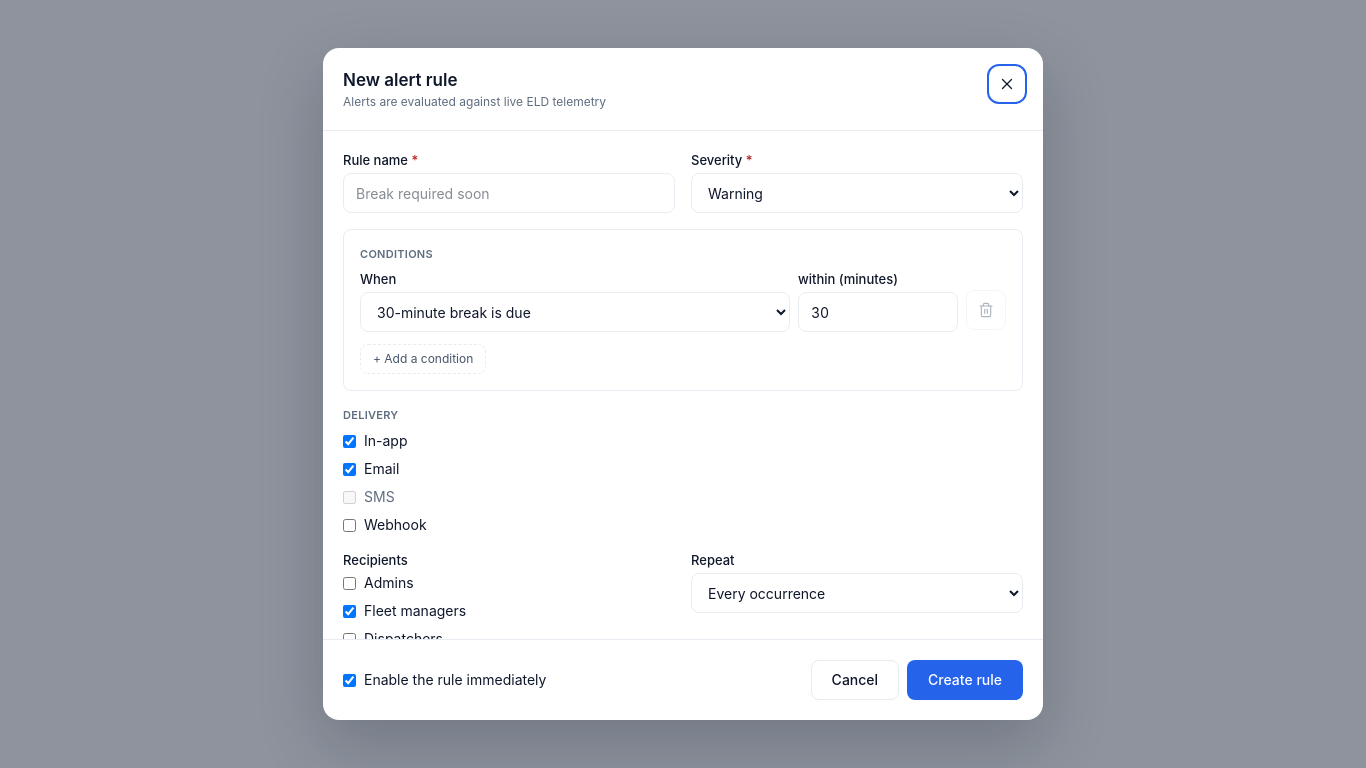
Test: NewAlertRuleModal — payload honesty › refuses a rule with no delivery channel and sends nothing
The image size is (1366, 768).
Type "Silent rule" into the field with placeholder "Break required soon" at (509, 193), box [343, 173, 675, 213]
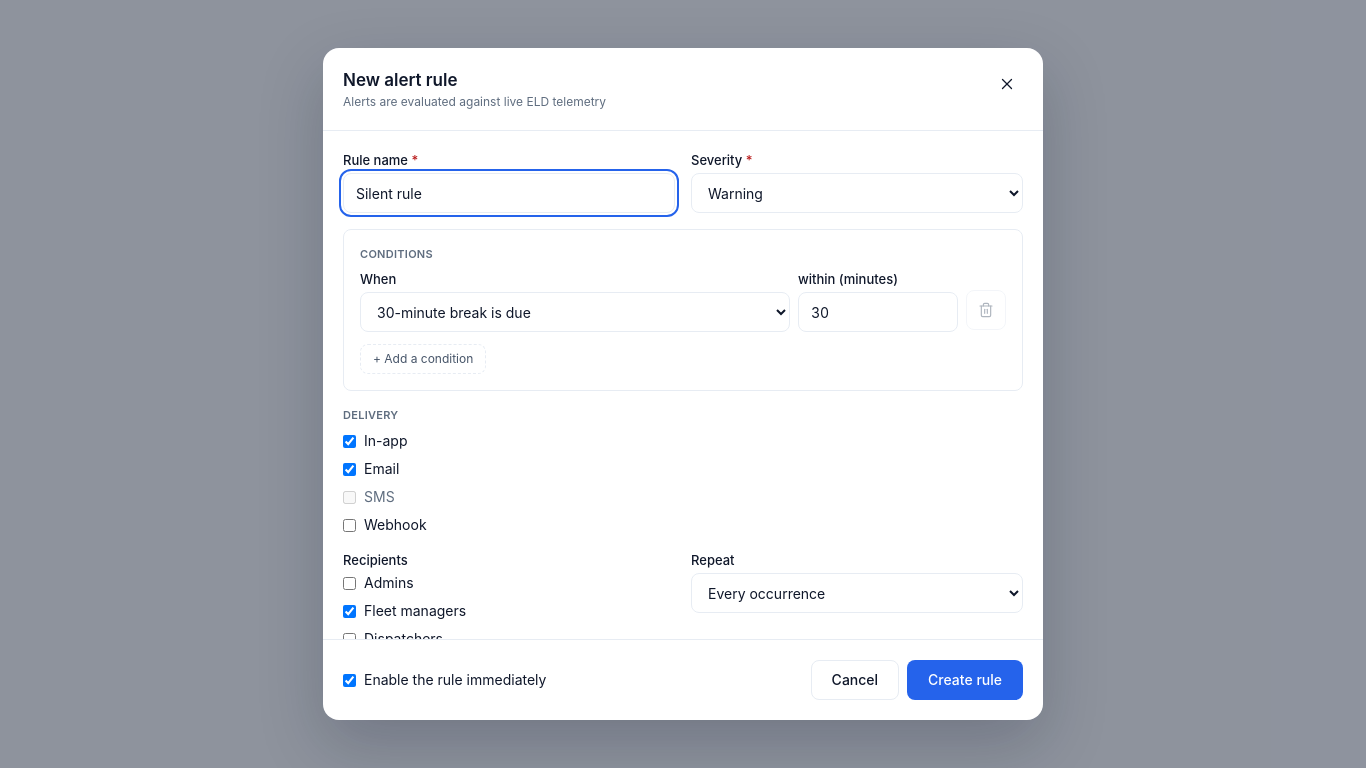
Click the checkbox labelled "In-app" at (350, 441), box [343, 434, 356, 448]
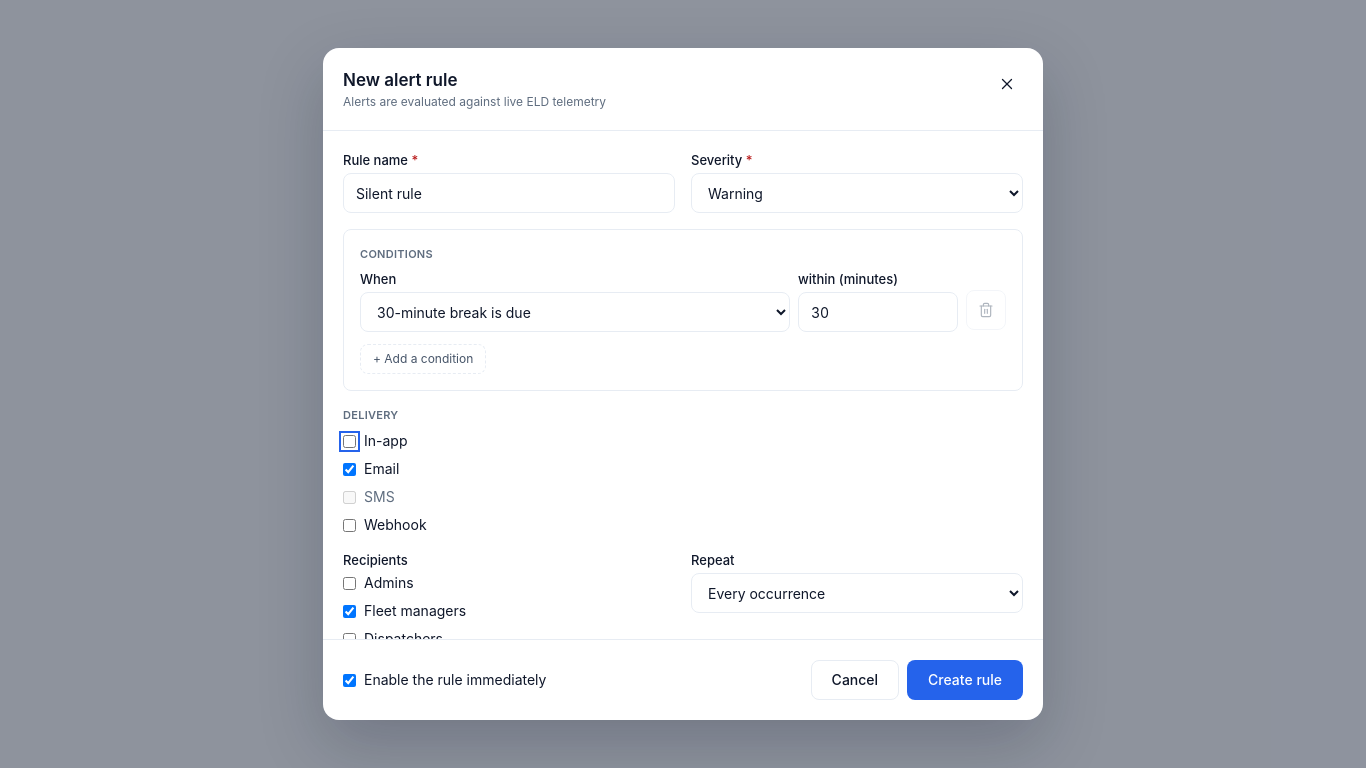
Click the checkbox labelled "Email" at (350, 469), box [343, 462, 356, 476]
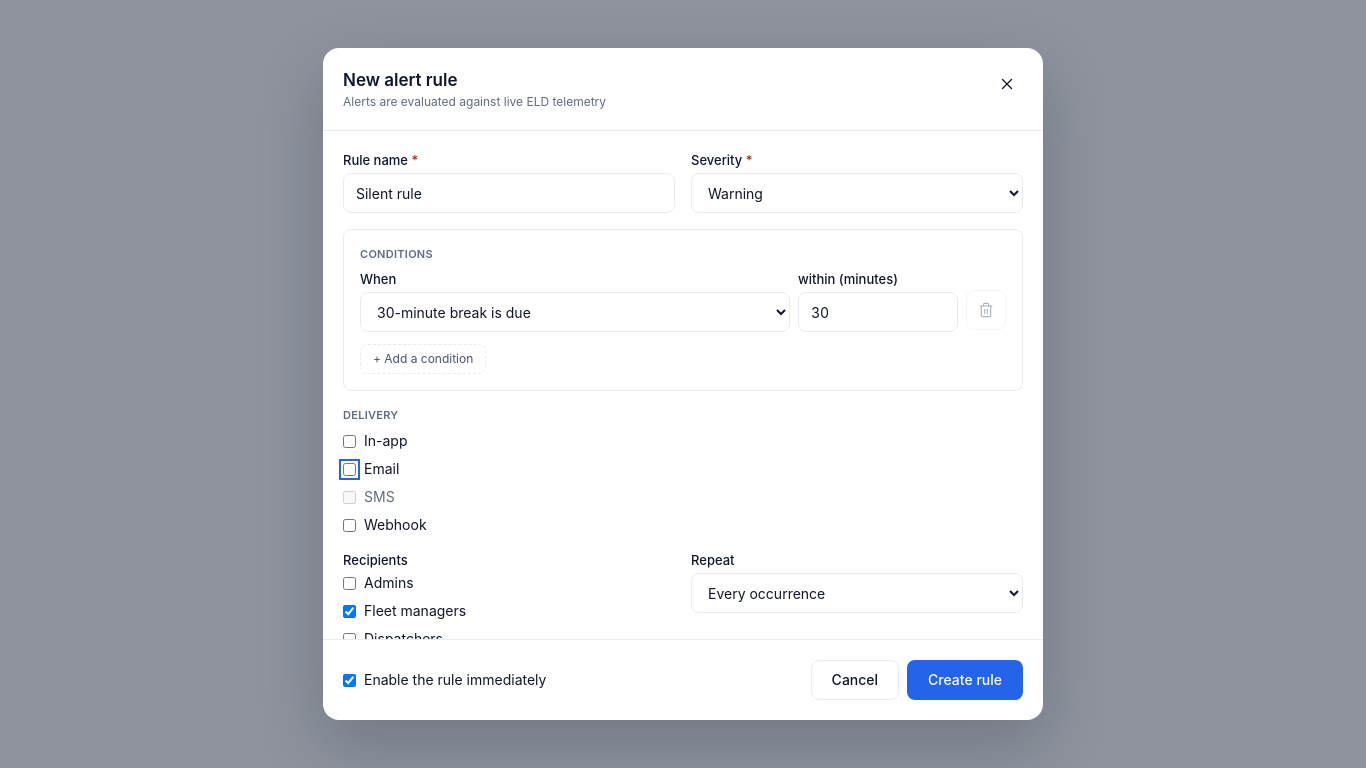
Click the button "Create rule" at (965, 680), box [907, 660, 1023, 700]
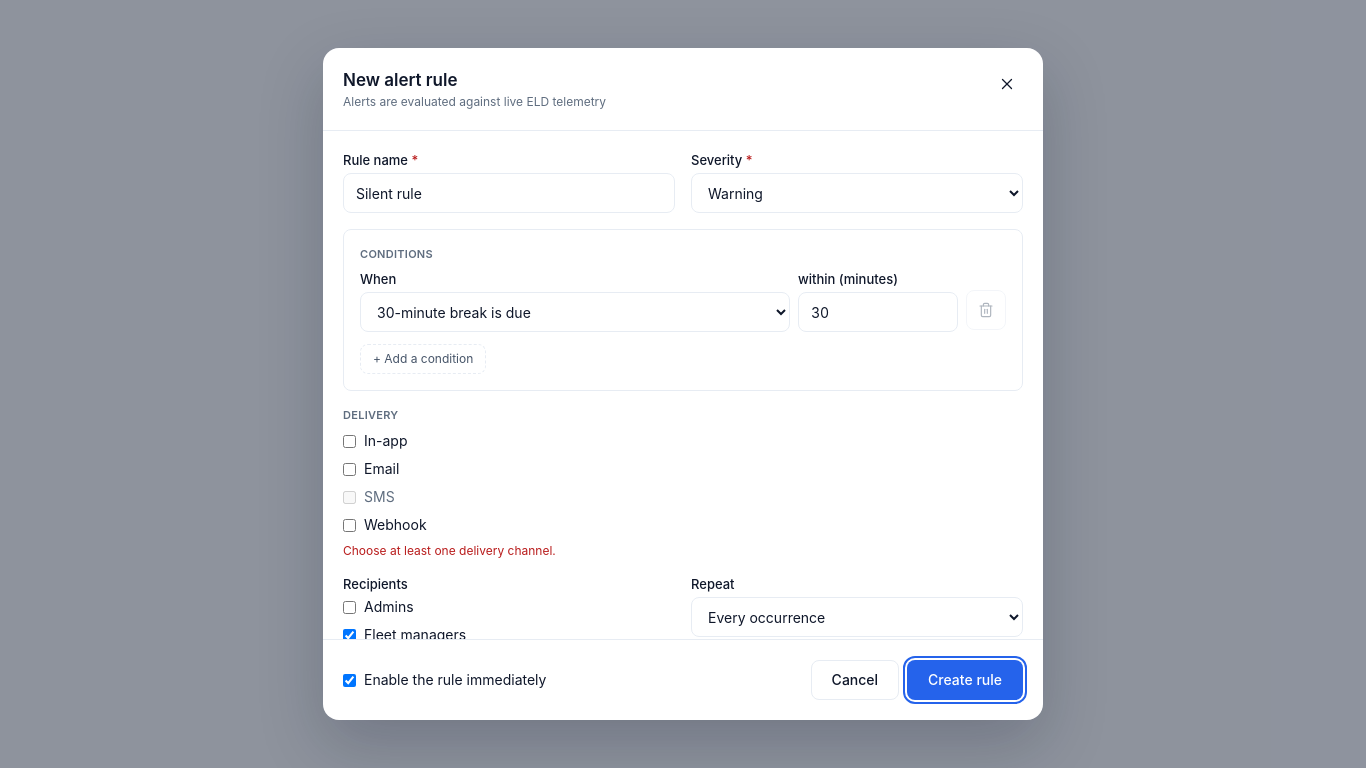
Now the text "Choose at least one delivery channel." is shown, box [343, 543, 556, 558]
